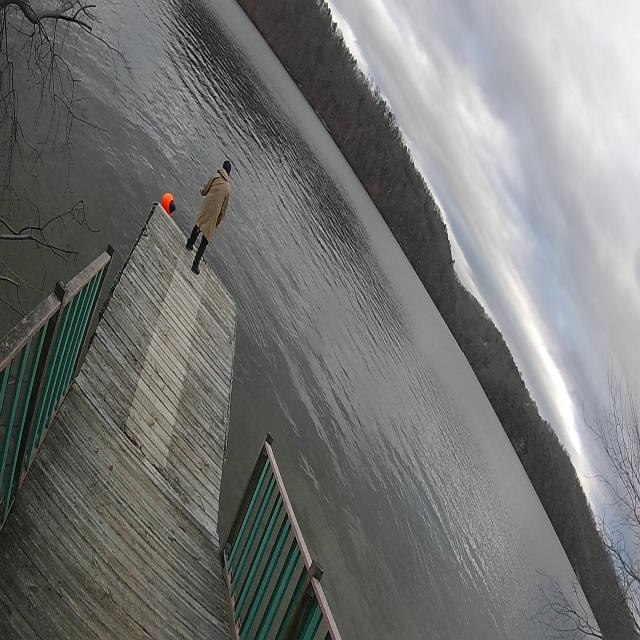Buoy: (160, 190, 173, 215)
